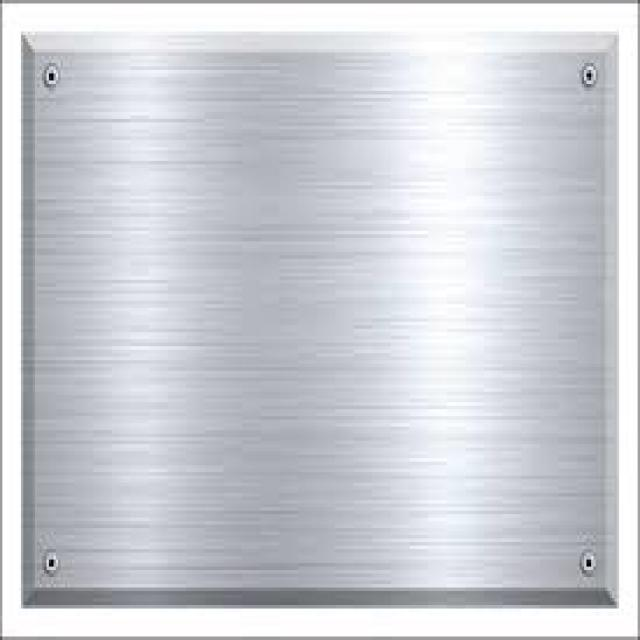Dry: (21, 31, 617, 609)
